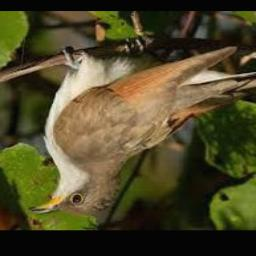Cuckoo: (29, 46, 241, 216)
